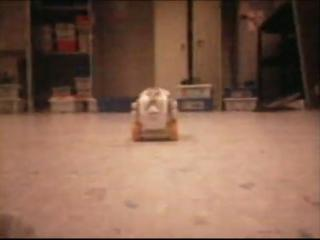cozmo: (129, 86, 179, 141)
